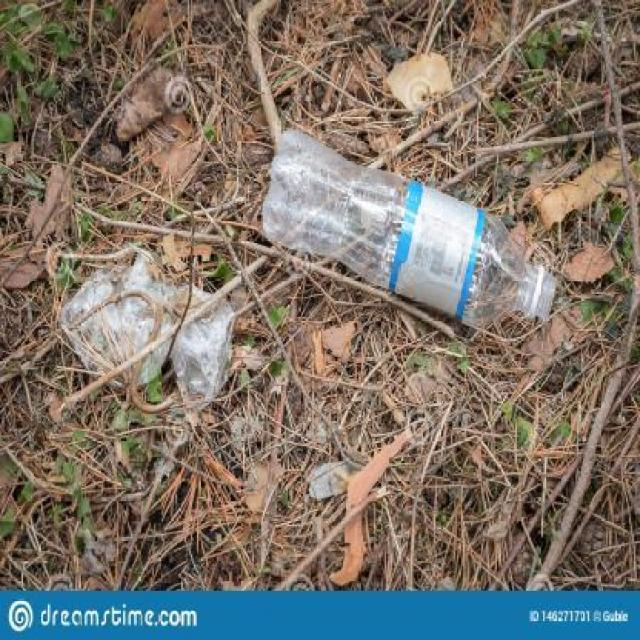bottle: (252, 128, 566, 366)
